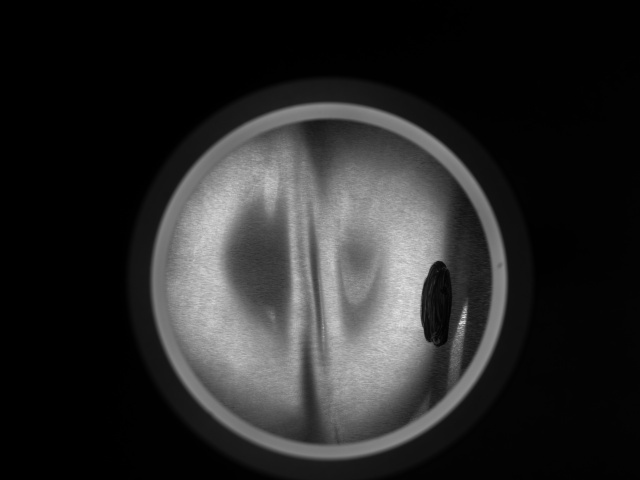zang_wu: (417, 260, 452, 344)
zhe_zhou: (209, 145, 449, 413)
